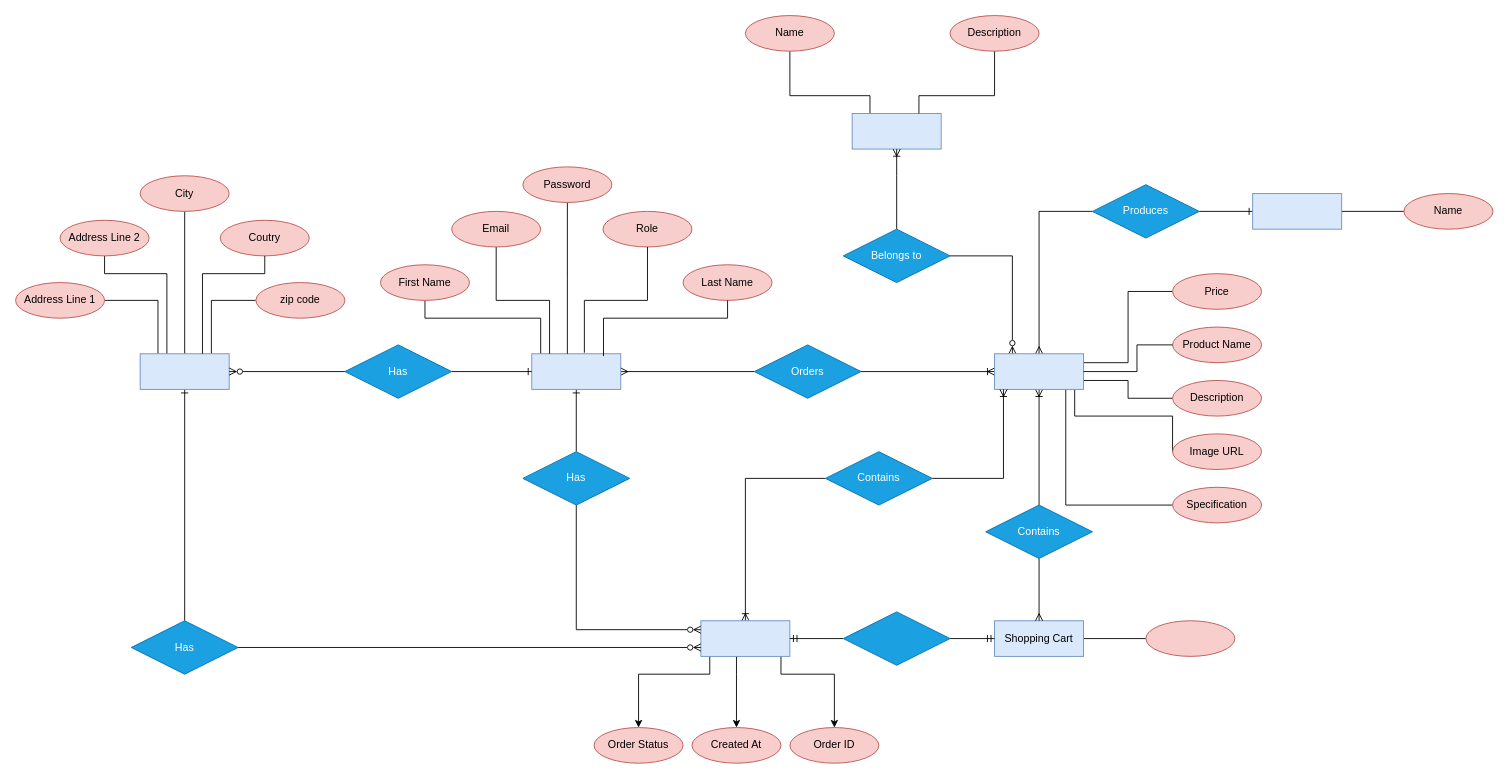
Some shapes in this 1509 by 779 pixel diagram are drawn without their labels. Here are the shapes that lost their labels. From the top down, the box of each, then its label:
(851, 113, 941, 149): Category
(1252, 193, 1342, 229): Manufacturer
(139, 353, 229, 389): Shipping address
(531, 353, 621, 389): User
(994, 353, 1084, 389): Product
(700, 620, 790, 656): Order
(842, 611, 950, 665): Creates
(1145, 620, 1235, 656): Cart ID
